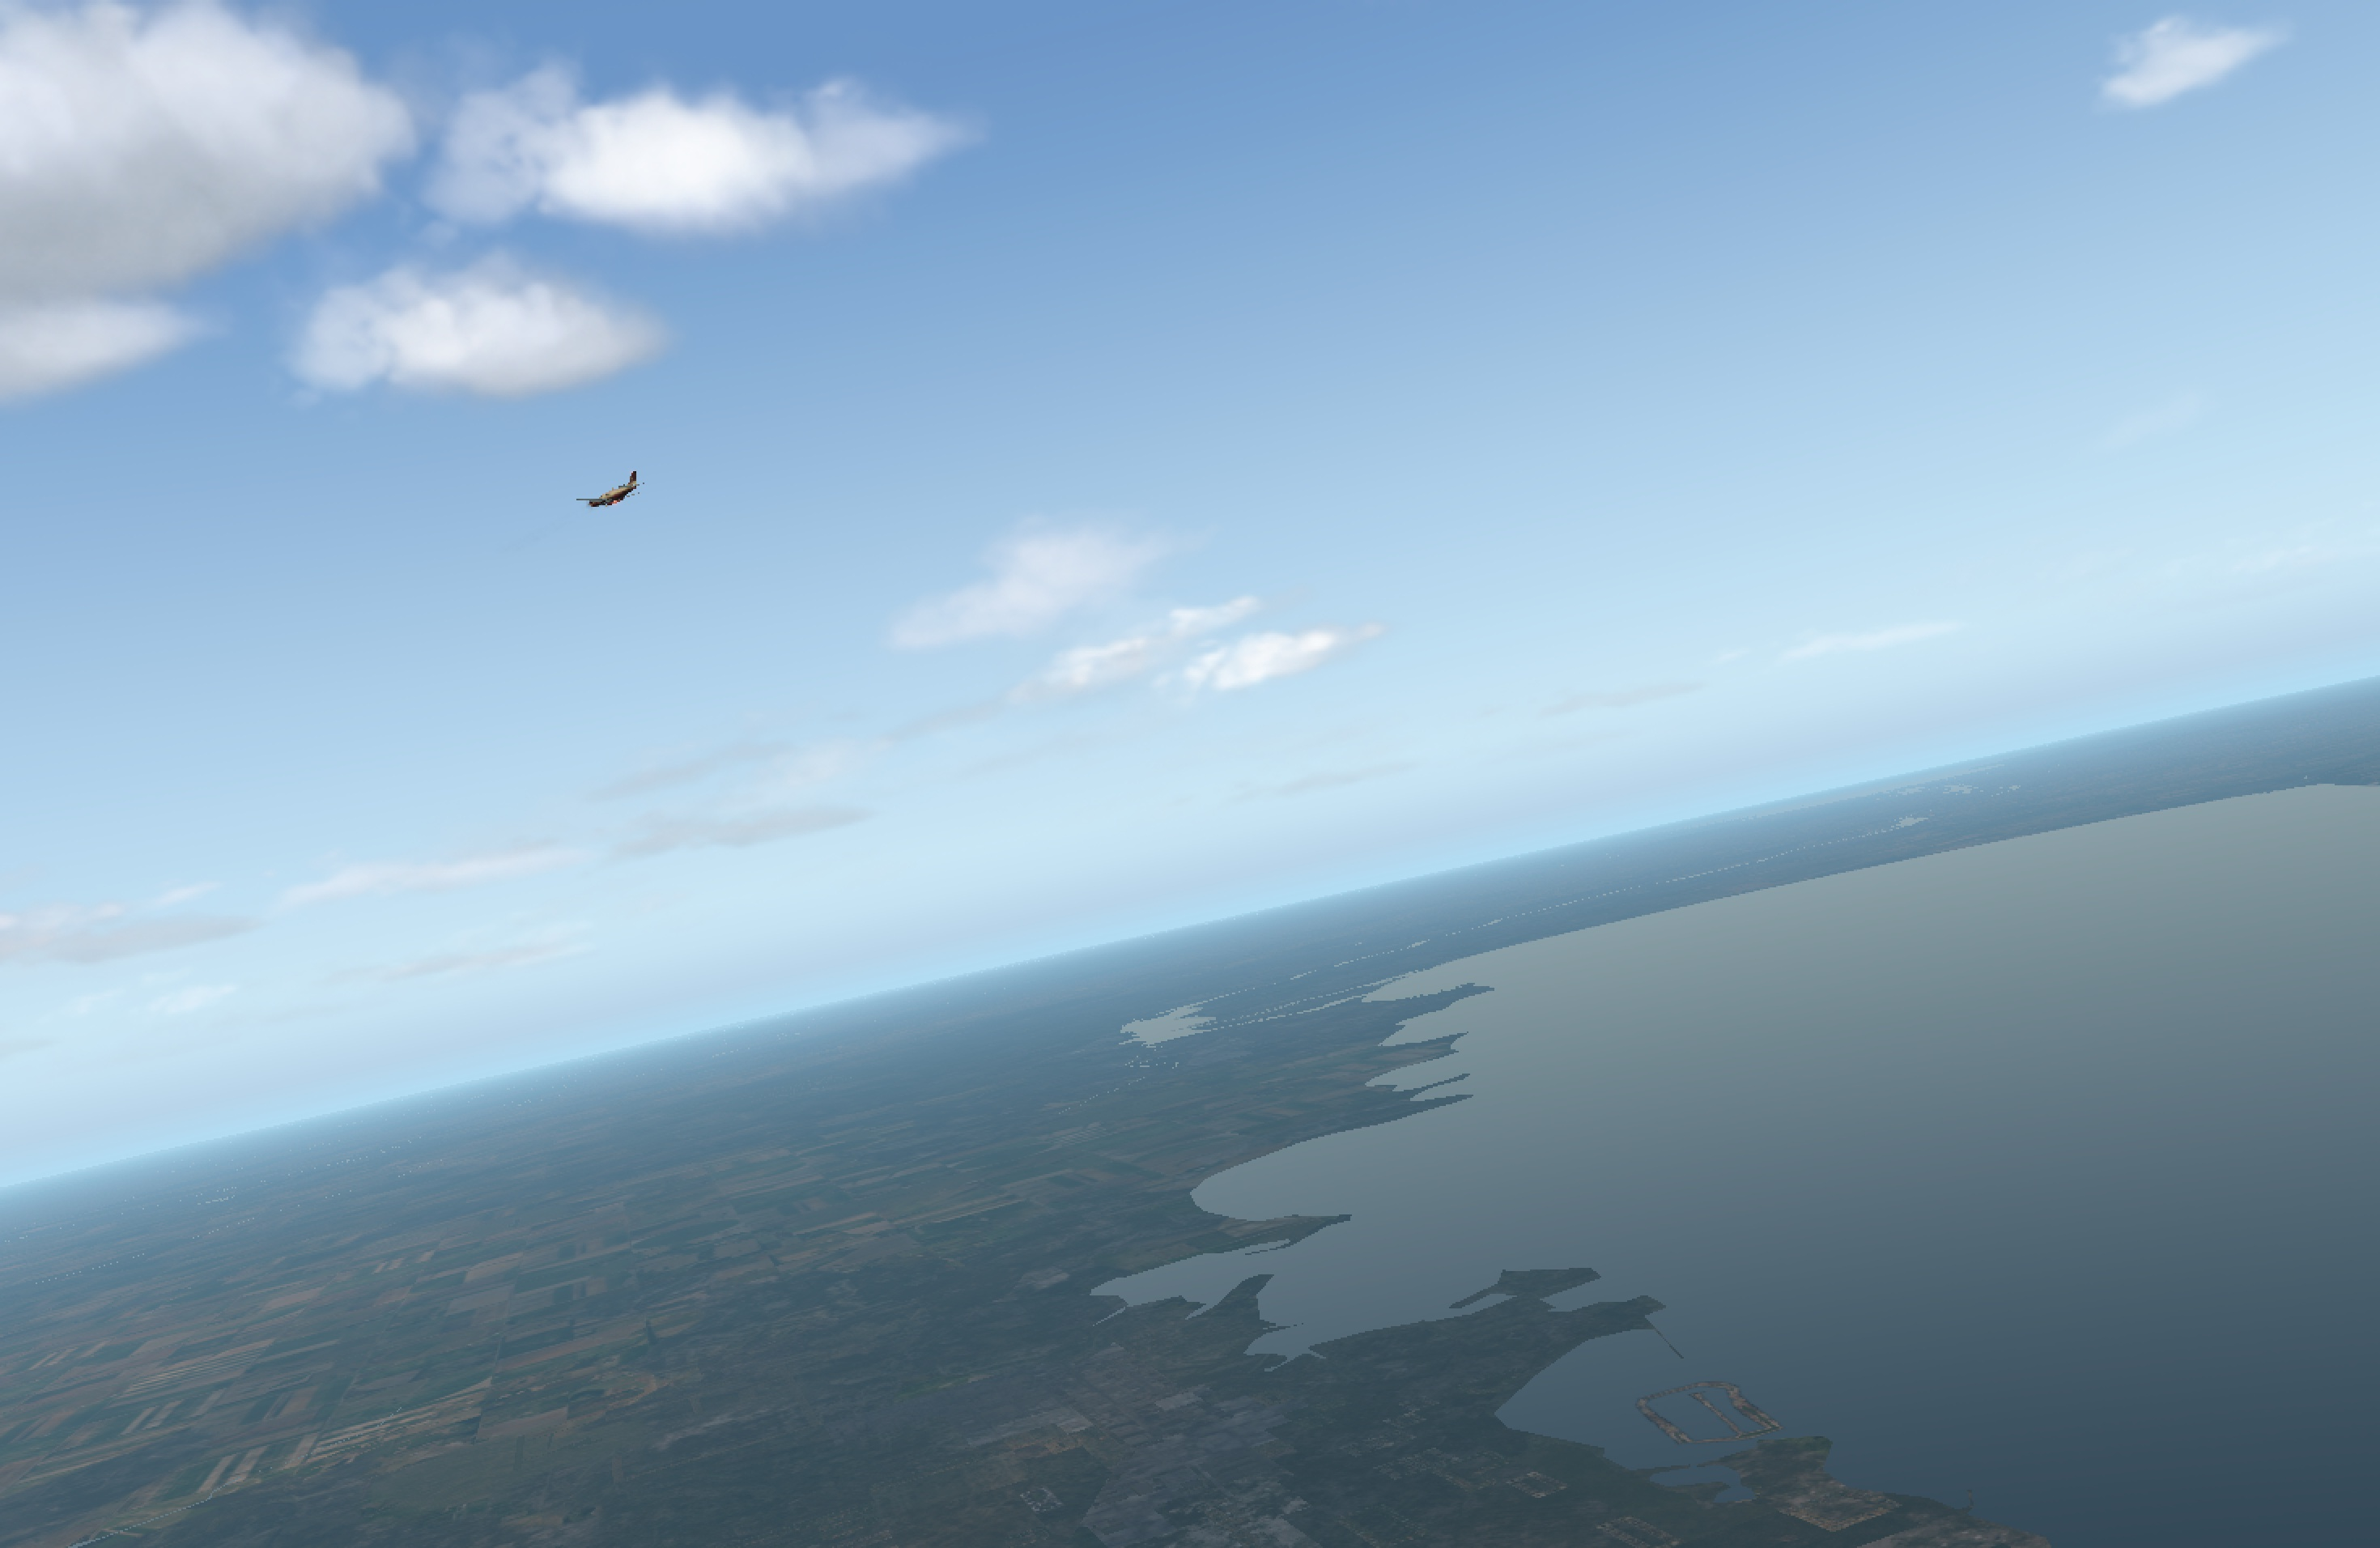aircraft: (564, 486, 654, 519)
